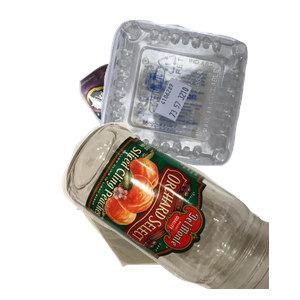glass: (60, 120, 300, 300)
metal: (77, 61, 222, 191)
plastic: (97, 17, 300, 176)
trash: (74, 148, 273, 300)
